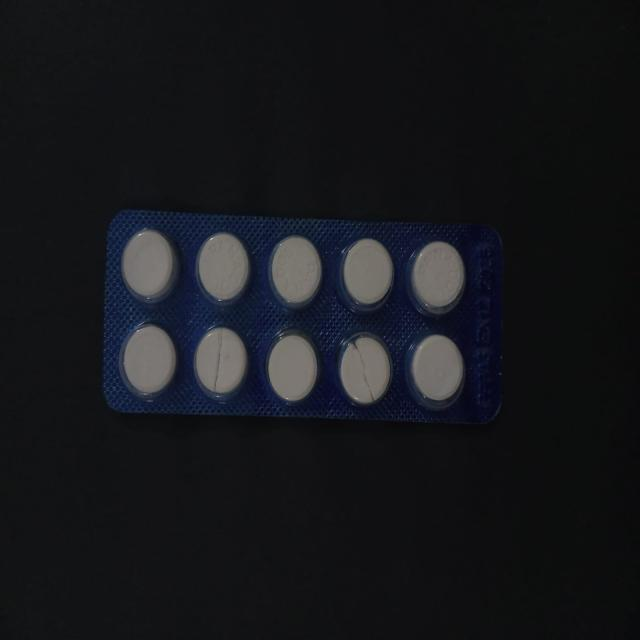defect: (191, 321, 250, 403), (336, 327, 392, 409)
